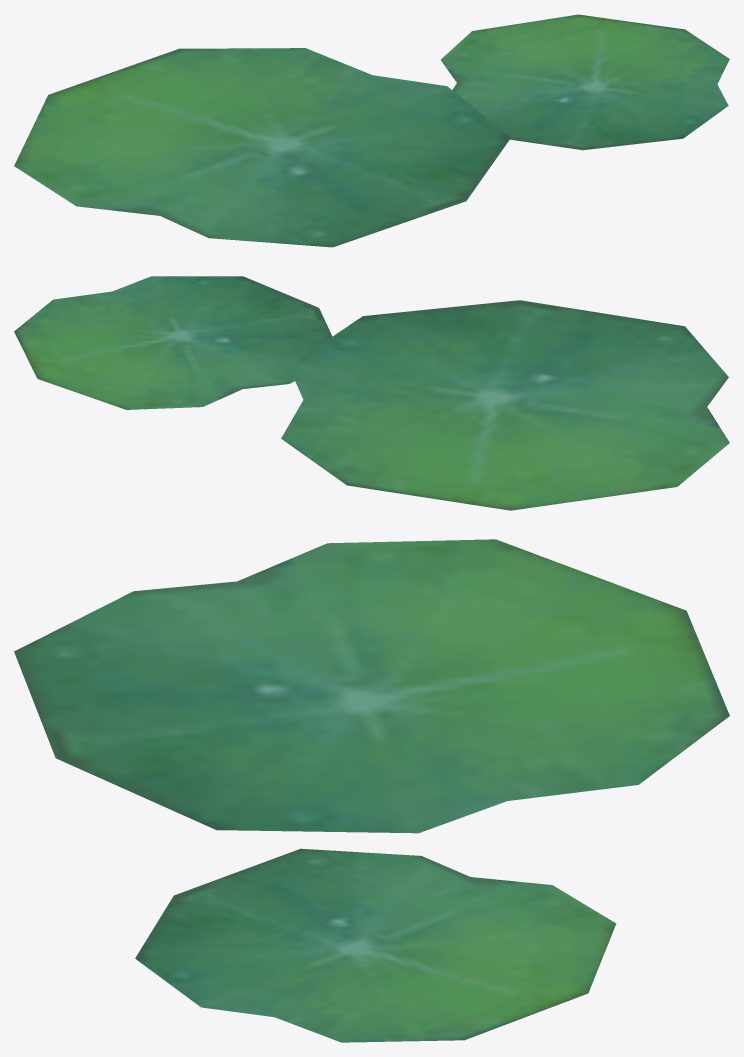
Rendered from h5_hehua_02.FBX.
The picture shows the model from 3 angles, top to bottom: view 1: azimuth 30°, elevation 25°; view 2: azimuth 150°, elevation 25°; view 3: azimuth 270°, elevation 25°; orthographic projection. The views are drawn at different scales.
Parts seen in each view (by area): view 1: h5_hehua_02; view 2: h5_hehua_02; view 3: h5_hehua_02.
Part boxes in pixels (box(x1,y1,x2,y2)): h5_hehua_02: box(14, 14, 729, 247); h5_hehua_02: box(14, 276, 729, 510); h5_hehua_02: box(14, 539, 729, 1042).
Size of the model in its own units: 2.72 by 0.0657 by 1.72.
